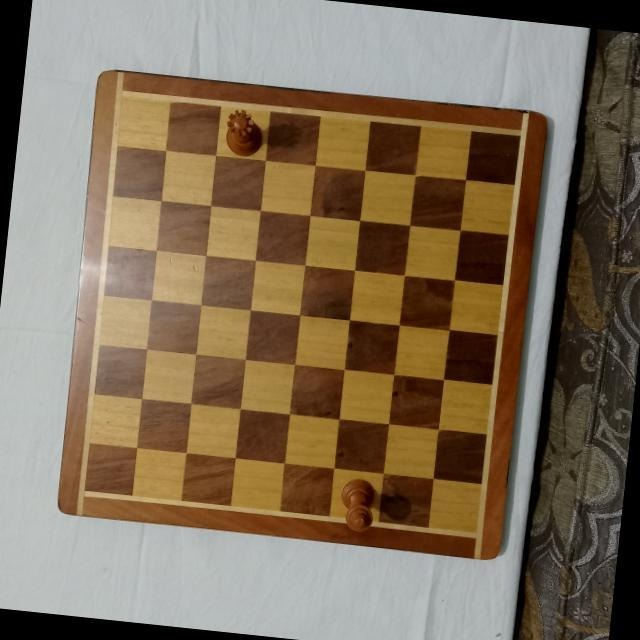white-king: (335, 477, 380, 535)
white-queen: (218, 104, 265, 160)
